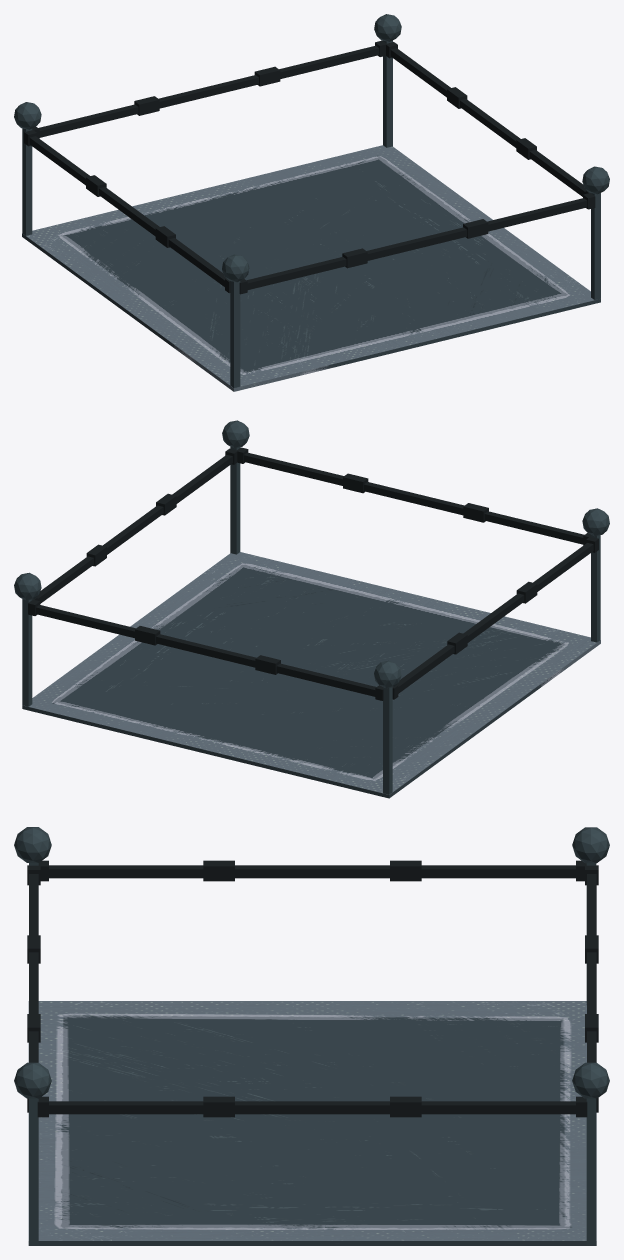
The model's file is floor3.fbx.
3 views of the same model, one above another, from view 1: azimuth 30°, elevation 25°; view 2: azimuth 150°, elevation 25°; view 3: azimuth 270°, elevation 25° (orthographic). The views are drawn at different scales.
Visible parts, largest first — view 1: Cube, Cube.005, Cube.003; view 2: Cube, Cube.005, Cube.003; view 3: Cube, Cube.005, Cube.003.
Boxes of the visible parts, x1,y1,x2,y2 form: Cube: (22, 145, 600, 391); Cube.005: (24, 40, 595, 294); Cube.003: (14, 14, 609, 387); Cube: (22, 552, 600, 798); Cube.005: (28, 447, 598, 700); Cube.003: (14, 420, 609, 794); Cube: (28, 1001, 596, 1245); Cube.005: (27, 860, 598, 1117); Cube.003: (14, 827, 609, 1245).
Bounding box in the file's own units: 3137 × 3148 × 1050.
